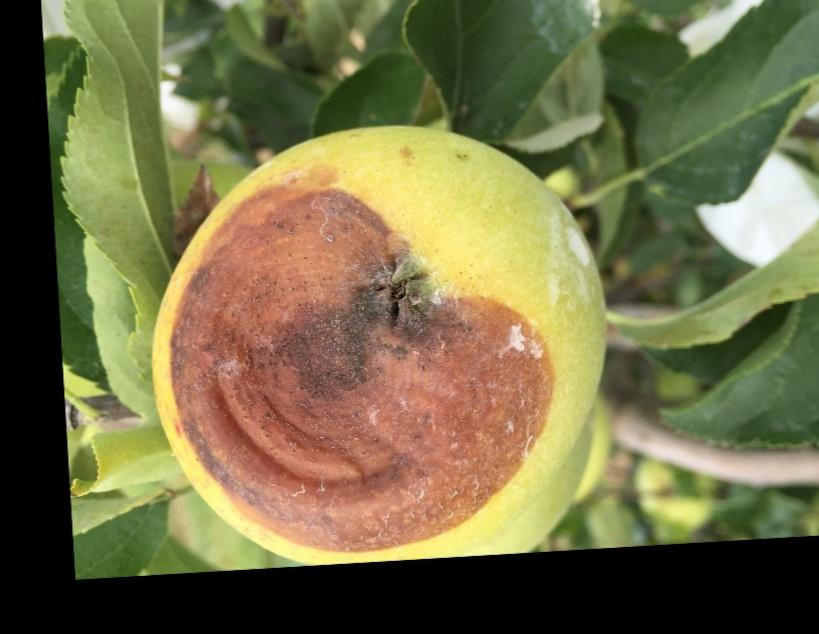rotten apple: (150, 123, 608, 560)
